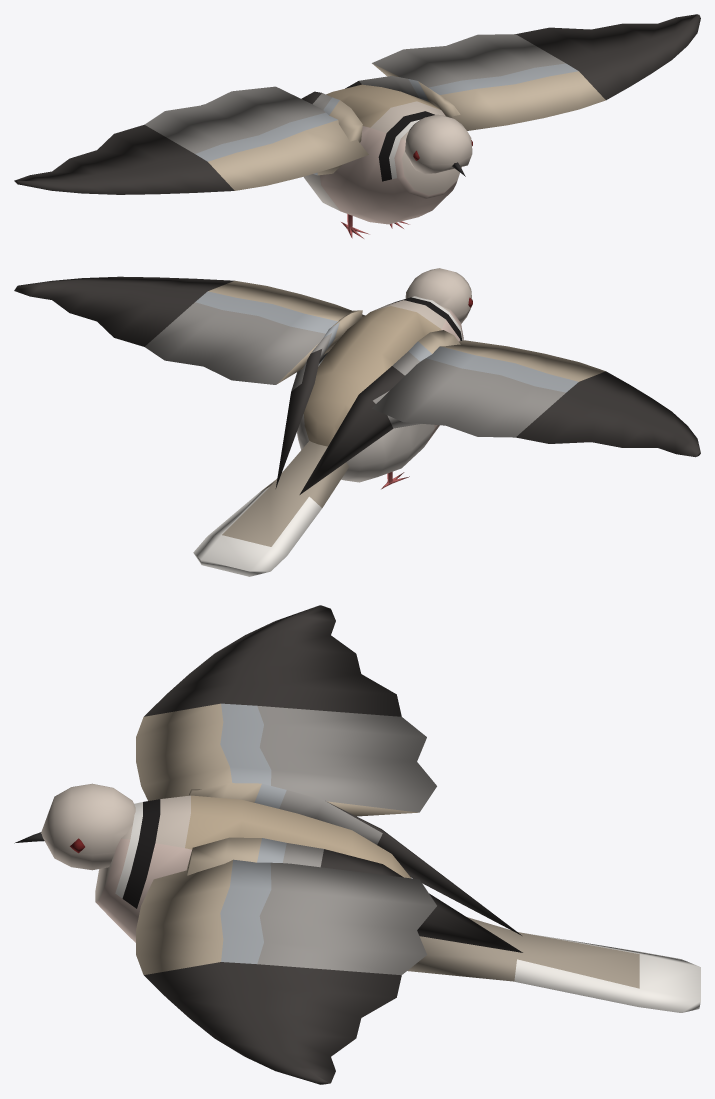
Rendered from collaredDove.glb.
3 views of the same model, one above another, from view 1: azimuth 30°, elevation 25°; view 2: azimuth 150°, elevation 25°; view 3: azimuth 270°, elevation 25° (orthographic). The views are drawn at different scales.
Visible parts, largest first — view 1: wing.R, wing.L, body, head; view 2: wing.R, wing.L, body, tail, head; view 3: wing.L, wing.R, body, tail, head.
Boxes of the visible parts, x1,y1,x2,y2 form: wing.R: (14, 86, 368, 194); wing.L: (372, 14, 700, 130); body: (301, 76, 461, 238); head: (405, 114, 472, 176); wing.R: (372, 340, 700, 457); wing.L: (14, 276, 365, 384); body: (275, 296, 463, 494); tail: (193, 440, 349, 576); head: (405, 268, 472, 323); wing.L: (136, 859, 436, 1084); wing.R: (136, 605, 436, 816); body: (95, 783, 522, 952); tail: (407, 917, 700, 1012); head: (14, 783, 135, 870).
Bounding box in the file's own units: 0.51 × 0.1107 × 0.312.
